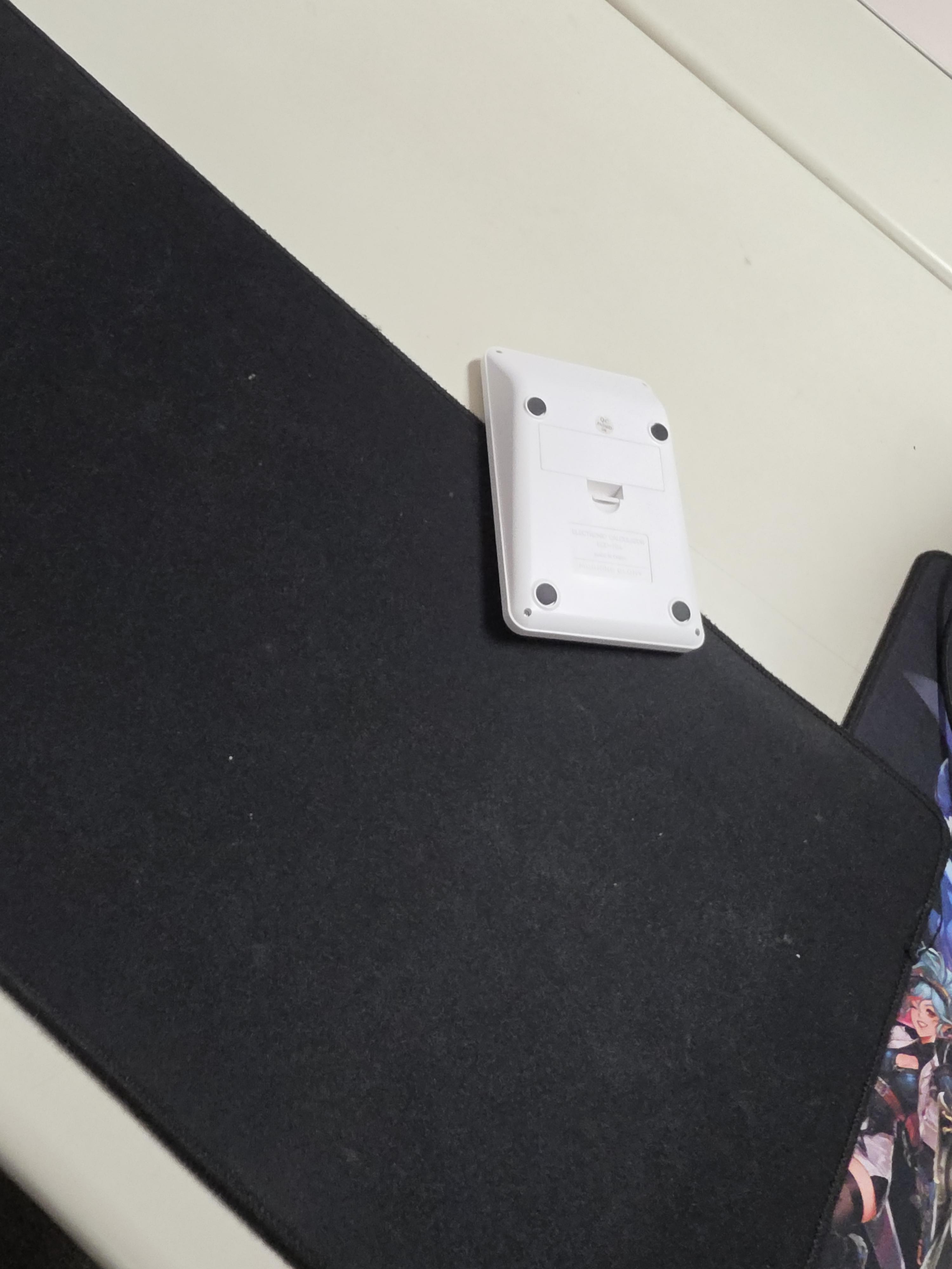calculator: (480, 346, 705, 653)
